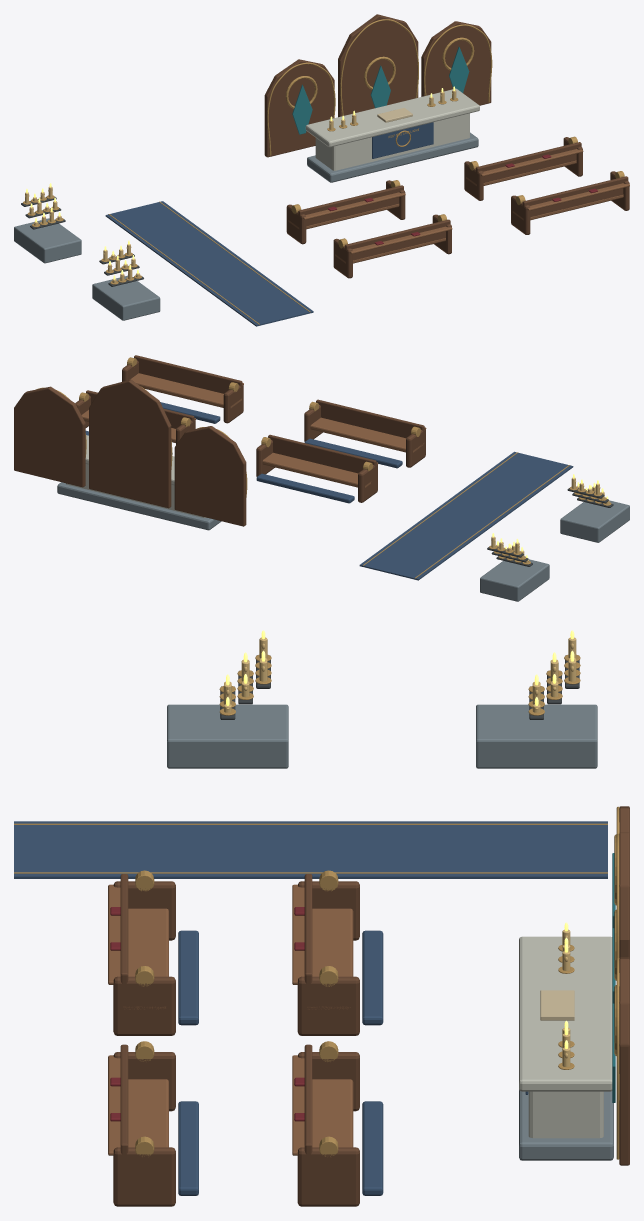
File: chapel.glb
The picture shows the model from 3 angles, top to bottom: view 1: azimuth 30°, elevation 25°; view 2: azimuth 150°, elevation 25°; view 3: azimuth 270°, elevation 25°; orthographic projection. The views are drawn at different scales.
Visible parts, largest first — view 1: Crafted assembly 002, Crafted assembly 000, Crafted assembly 006, Crafted assembly 016, Crafted assembly 012, Crafted assembly 003, Crafted assembly 005, Crafted assembly 014, Crafted assembly 011, Crafted assembly 004, Crafted assembly 007, Crafted assembly 019 (+3 smaller); view 2: Crafted assembly 002, Crafted assembly 000, Crafted assembly 012, Crafted assembly 016, Crafted assembly 011, Crafted assembly 005, Crafted assembly 014, Crafted assembly 001, Crafted assembly 003, Crafted assembly 017, Crafted assembly 006, Crafted assembly 018 (+2 smaller); view 3: Crafted assembly 000, Crafted assembly 002, Crafted assembly 006, Crafted assembly 016, Crafted assembly 011, Crafted assembly 014, Crafted assembly 012, Crafted assembly 003, Crafted assembly 007, Crafted assembly 005, Crafted assembly 001, Crafted assembly 019 (+4 smaller).
Part boxes in pixels (<box>): Crafted assembly 002: <box>264,14,629,254</box>; Crafted assembly 000: <box>105,201,313,326</box>; Crafted assembly 006: <box>305,88,479,170</box>; Crafted assembly 016: <box>14,218,160,320</box>; Crafted assembly 012: <box>286,185,450,278</box>; Crafted assembly 003: <box>267,19,624,221</box>; Crafted assembly 005: <box>307,132,478,182</box>; Crafted assembly 014: <box>466,149,629,220</box>; Crafted assembly 011: <box>288,192,452,263</box>; Crafted assembly 004: <box>292,46,469,134</box>; Crafted assembly 007: <box>372,122,433,158</box>; Crafted assembly 019: <box>25,186,140,282</box>; Crafted assembly 002: <box>14,355,322,526</box>; Crafted assembly 000: <box>256,438,573,580</box>; Crafted assembly 012: <box>268,399,425,502</box>; Crafted assembly 016: <box>480,500,629,601</box>; Crafted assembly 011: <box>262,417,426,487</box>; Crafted assembly 005: <box>57,482,221,530</box>; Crafted assembly 014: <box>81,373,243,442</box>; Crafted assembly 001: <box>363,426,569,578</box>; Crafted assembly 003: <box>36,357,318,497</box>; Crafted assembly 017: <box>487,488,613,566</box>; Crafted assembly 006: <box>66,435,206,517</box>; Crafted assembly 018: <box>489,486,611,564</box>; Crafted assembly 000: <box>14,821,607,1025</box>; Crafted assembly 002: <box>113,806,629,1206</box>; Crafted assembly 006: <box>519,936,612,1138</box>; Crafted assembly 016: <box>167,704,597,768</box>; Crafted assembly 011: <box>108,884,353,1009</box>; Crafted assembly 014: <box>108,1055,353,1155</box>; Crafted assembly 012: <box>113,874,359,1005</box>; Crafted assembly 003: <box>135,806,619,1159</box>; Crafted assembly 007: <box>178,1091,528,1195</box>; Crafted assembly 005: <box>519,1089,613,1160</box>; Crafted assembly 001: <box>14,823,607,891</box>; Crafted assembly 019: <box>223,637,576,712</box>.
Size of what is drawn, in the model's own units: 18.93 by 4.79 by 10.37.
